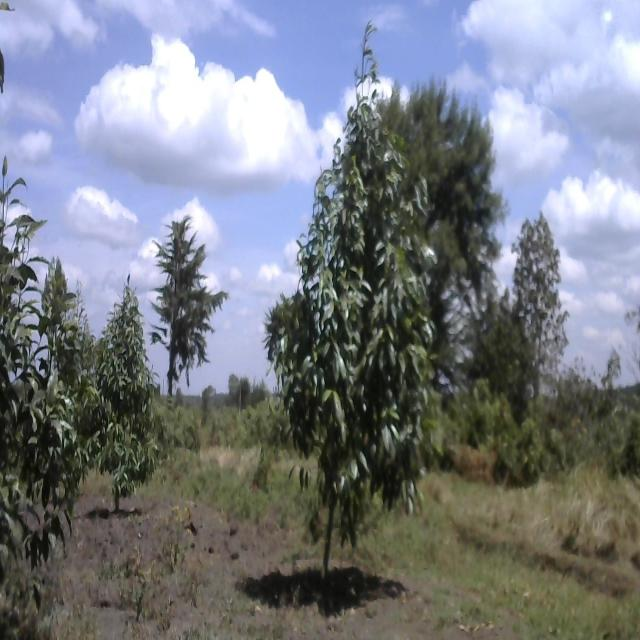Juniperus procesera: (152, 211, 222, 397)
Prunus Africana: (293, 73, 467, 631), (0, 137, 92, 635), (88, 242, 172, 553)
